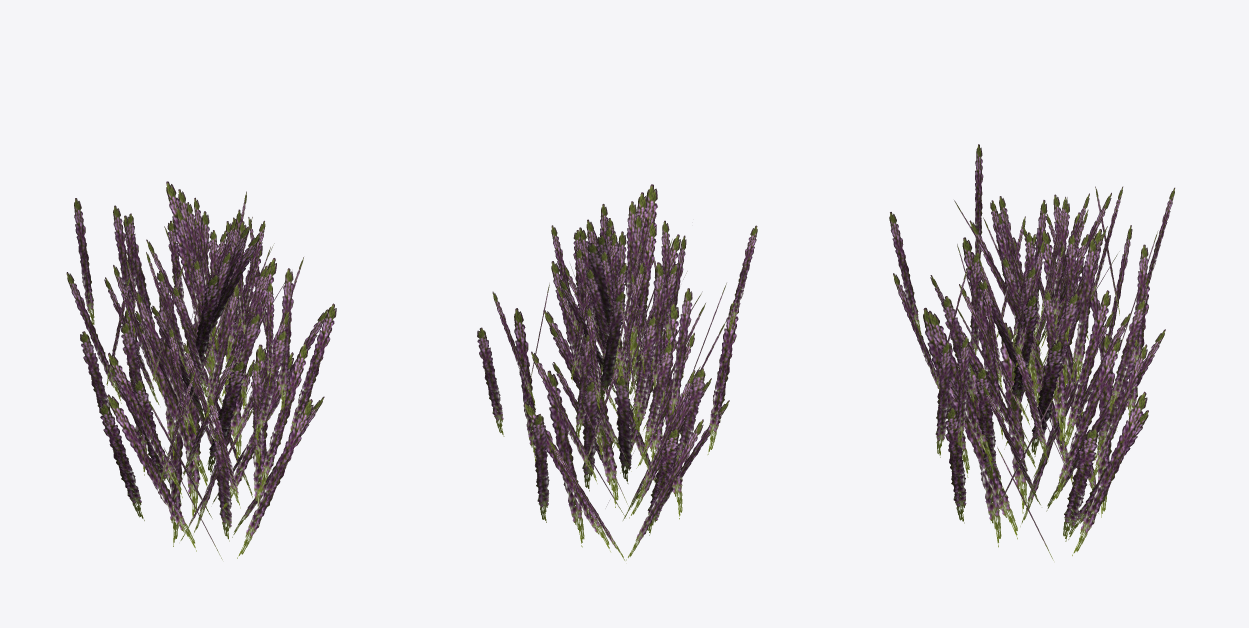
Rendered from heather bloom.fbx.
3 renders of one model, left to right at view 1: azimuth 30°, elevation 25°; view 2: azimuth 150°, elevation 25°; view 3: azimuth 270°, elevation 25°, orthographic. The views are drawn at different scales.
Visible parts, largest first — view 1: heather_1; view 2: heather_1; view 3: heather_1.
Boxes of the visible parts, box(x1,y1,x2,y2) form: heather_1: box(66, 181, 336, 559); heather_1: box(477, 184, 757, 560); heather_1: box(889, 144, 1175, 560).
Size of the model in its own units: 97.66 by 157 by 101.
1 material, 1 textured.
